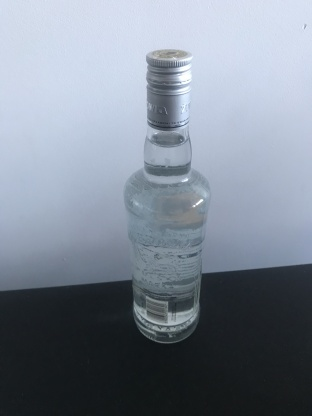nakretka: (144, 47, 194, 132)
